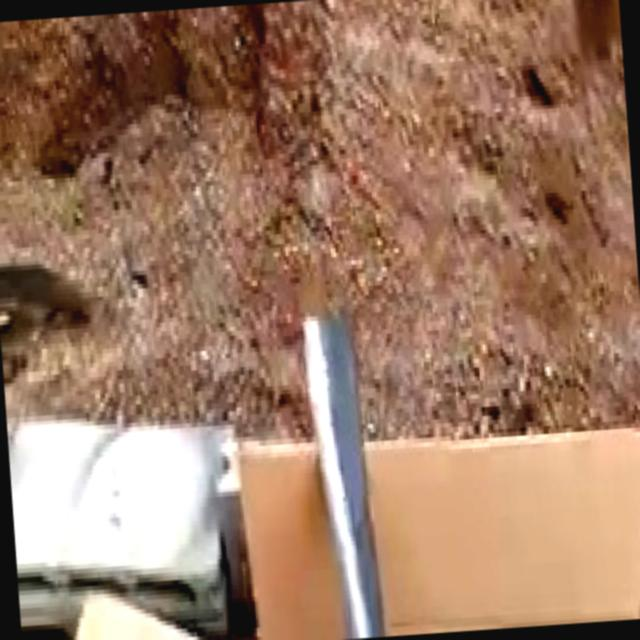eto: (294, 305, 379, 638)
